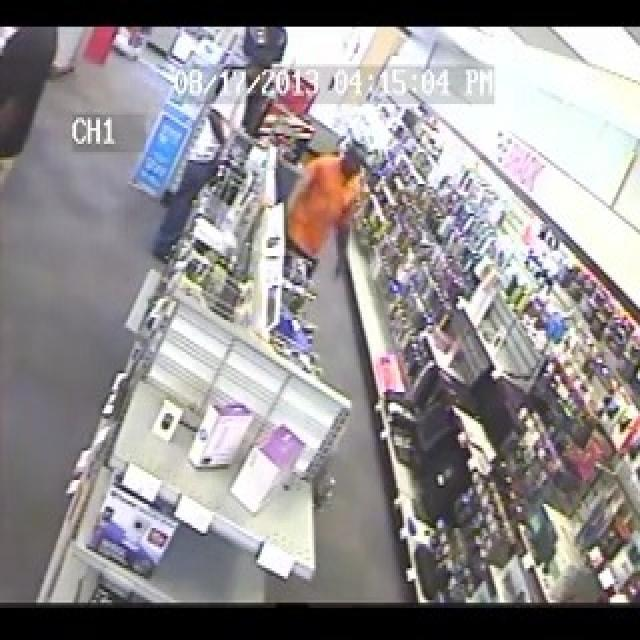Shoplifting: (309, 136, 385, 204)
